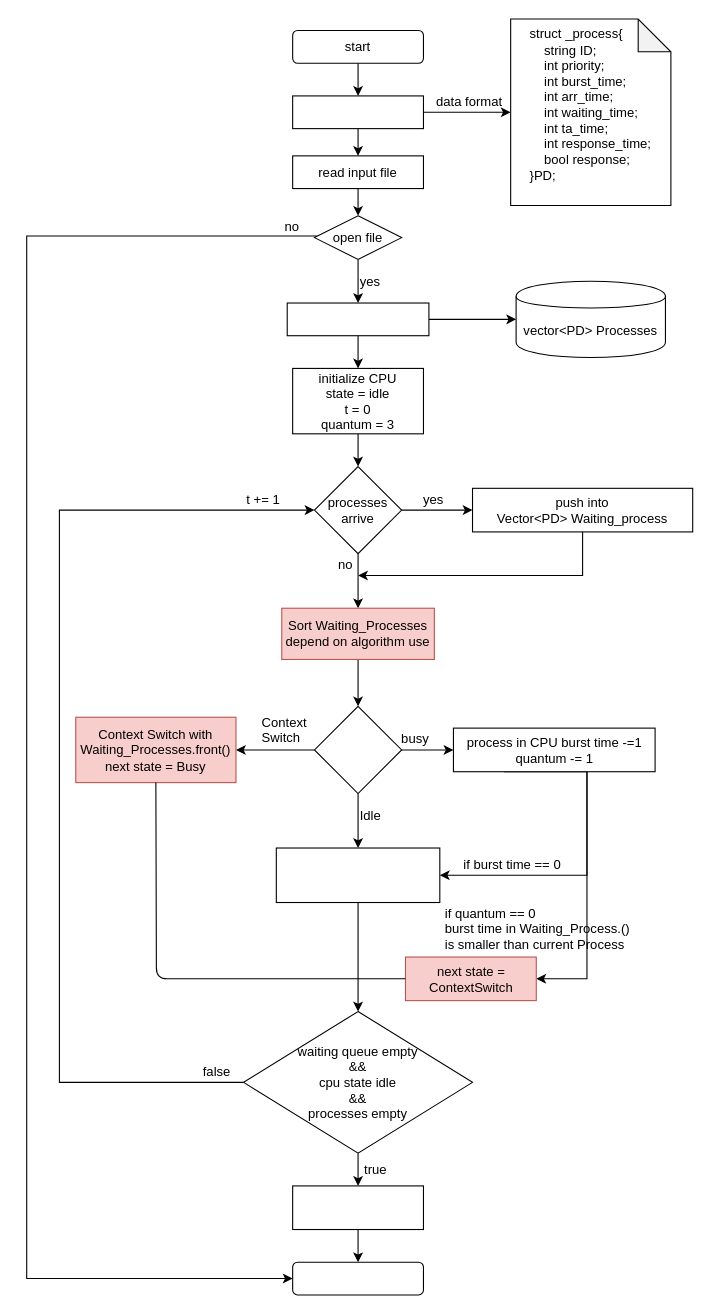
This 712x1315 diagram has some shape labels left out. Each missing label, with the box of its shape:
CPU load Waiting_Processes.front() next state = busy: (275, 847, 440, 903)
end: (292, 1261, 423, 1295)
initialization: (292, 95, 423, 129)
print out details write output file: (292, 1185, 423, 1230)
state: (313, 705, 402, 794)
store each processes: (286, 302, 429, 336)
